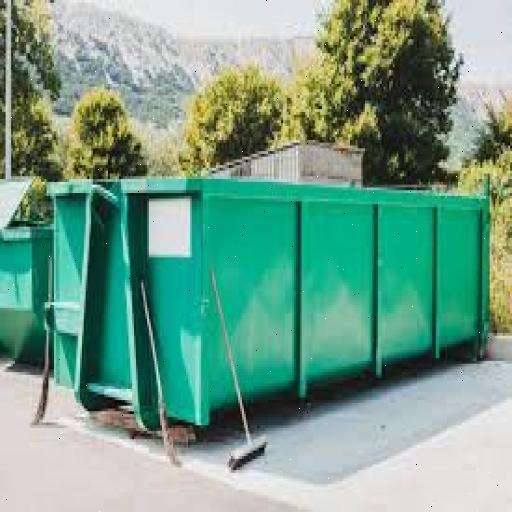poubelle_vide: (40, 144, 506, 435)
